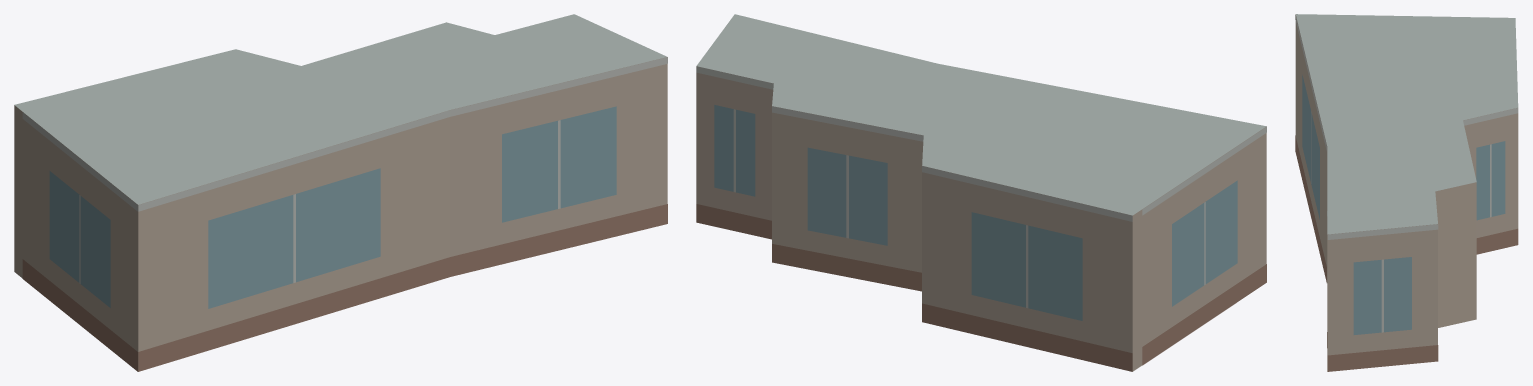
The model's file is survey-upis-32975402.glb.
The picture shows the model from 3 angles, left to right: view 1: azimuth 30°, elevation 25°; view 2: azimuth 150°, elevation 25°; view 3: azimuth 270°, elevation 25°; orthographic projection. The views are drawn at different scales.
Visible parts, largest first — view 1: survey-upis-32975402.tmp; view 2: survey-upis-32975402.tmp; view 3: survey-upis-32975402.tmp.
Part boxes in pixels (x1,y1,x2,y2): survey-upis-32975402.tmp: [14, 14, 667, 371]; survey-upis-32975402.tmp: [696, 14, 1266, 371]; survey-upis-32975402.tmp: [1295, 14, 1518, 371].
Size of the model in its own units: 10.51 by 3.05 by 4.49.
